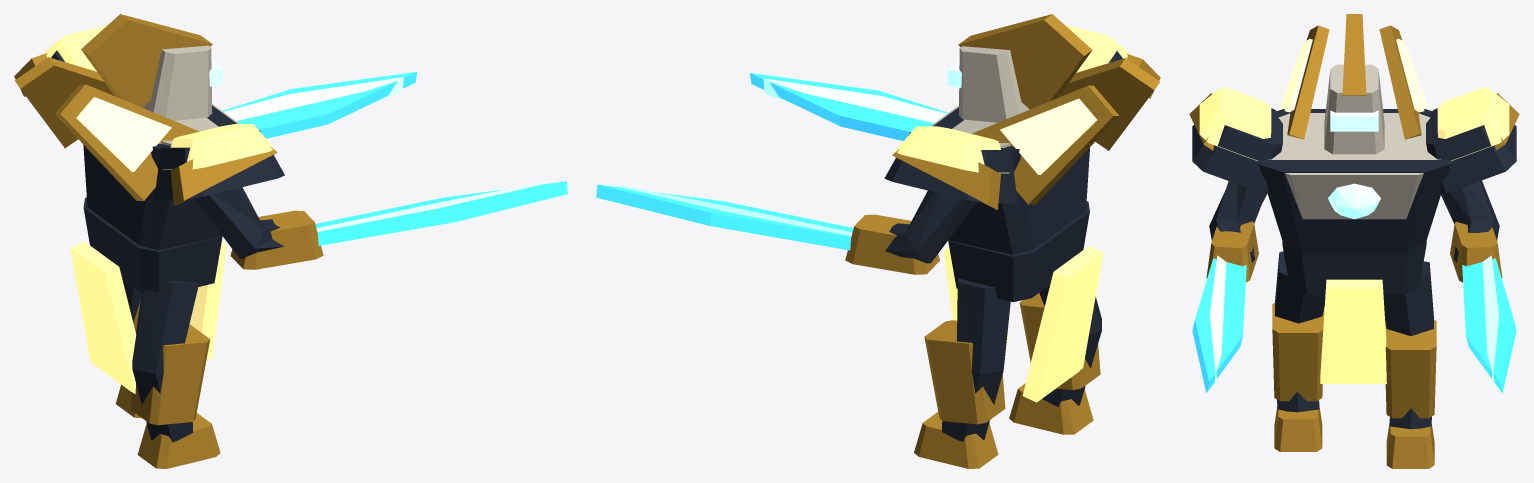
File: sunblade.glb
The picture shows the model from 3 angles, left to right: view 1: azimuth 30°, elevation 25°; view 2: azimuth 150°, elevation 25°; view 3: azimuth 270°, elevation 25°; orthographic projection. The views are drawn at different scales.
Visible parts, largest first — view 1: Surf_gold, Surf_obs, Surf_TEAM, RightBladeEdge, Surf_ivory, LeftBladeEdge, Surf_GLOW, RightForearmSurf_obs, RightArmSurf_TEAM, RightForearmSurf_gold, RightArmSurf_obs, LeftBladeCore (+3 smaller); view 2: Surf_gold, Surf_obs, Surf_TEAM, LeftBladeEdge, Surf_ivory, RightBladeEdge, Surf_GLOW, LeftForearmSurf_obs, LeftArmSurf_TEAM, LeftForearmSurf_gold, LeftArmSurf_obs, RightBladeCore (+3 smaller); view 3: Surf_obs, Surf_gold, Surf_ivory, Surf_TEAM, LeftArmSurf_obs, RightArmSurf_obs, LeftBladeEdge, RightBladeEdge, LeftArmSurf_TEAM, RightArmSurf_TEAM, Surf_blade, LeftForearmSurf_obs (+6 smaller).
Boxes of the visible parts, bbox=[...] form: Surf_gold: bbox=[14, 14, 220, 468]; Surf_obs: bbox=[83, 105, 236, 442]; Surf_TEAM: bbox=[70, 241, 226, 393]; RightBladeEdge: bbox=[315, 181, 567, 245]; Surf_ivory: bbox=[142, 45, 239, 145]; LeftBladeEdge: bbox=[223, 72, 416, 138]; Surf_GLOW: bbox=[76, 97, 171, 171]; RightForearmSurf_obs: bbox=[194, 187, 283, 258]; RightArmSurf_TEAM: bbox=[163, 124, 274, 169]; RightForearmSurf_gold: bbox=[230, 210, 323, 269]; RightArmSurf_obs: bbox=[154, 130, 284, 199]; LeftBladeCore: bbox=[224, 77, 403, 120]; Surf_gold: bbox=[914, 14, 1159, 468]; Surf_obs: bbox=[933, 107, 1101, 441]; Surf_TEAM: bbox=[943, 246, 1103, 402]; LeftBladeEdge: bbox=[596, 184, 853, 250]; Surf_ivory: bbox=[930, 46, 1029, 147]; RightBladeEdge: bbox=[750, 73, 948, 140]; Surf_GLOW: bbox=[1000, 98, 1097, 174]; LeftForearmSurf_obs: bbox=[885, 190, 976, 263]; LeftArmSurf_TEAM: bbox=[895, 126, 1008, 173]; LeftForearmSurf_gold: bbox=[845, 214, 939, 274]; LeftArmSurf_obs: bbox=[884, 132, 1017, 203]; RightBladeCore: bbox=[763, 78, 946, 122]; Surf_obs: bbox=[1258, 109, 1450, 429]; Surf_gold: bbox=[1272, 14, 1436, 468]; Surf_ivory: bbox=[1268, 64, 1440, 219]; Surf_TEAM: bbox=[1320, 279, 1386, 383]; LeftArmSurf_obs: bbox=[1426, 108, 1516, 193]; RightArmSurf_obs: bbox=[1192, 108, 1282, 193]; LeftBladeEdge: bbox=[1462, 258, 1516, 392]; RightBladeEdge: bbox=[1192, 258, 1246, 392]; LeftArmSurf_TEAM: bbox=[1437, 87, 1509, 160]; RightArmSurf_TEAM: bbox=[1199, 87, 1271, 160]; Surf_blade: bbox=[1328, 110, 1380, 219]; LeftForearmSurf_obs: bbox=[1441, 180, 1499, 262].
Bounding box in the file's own units: 2.55 × 2.26 × 1.65.
